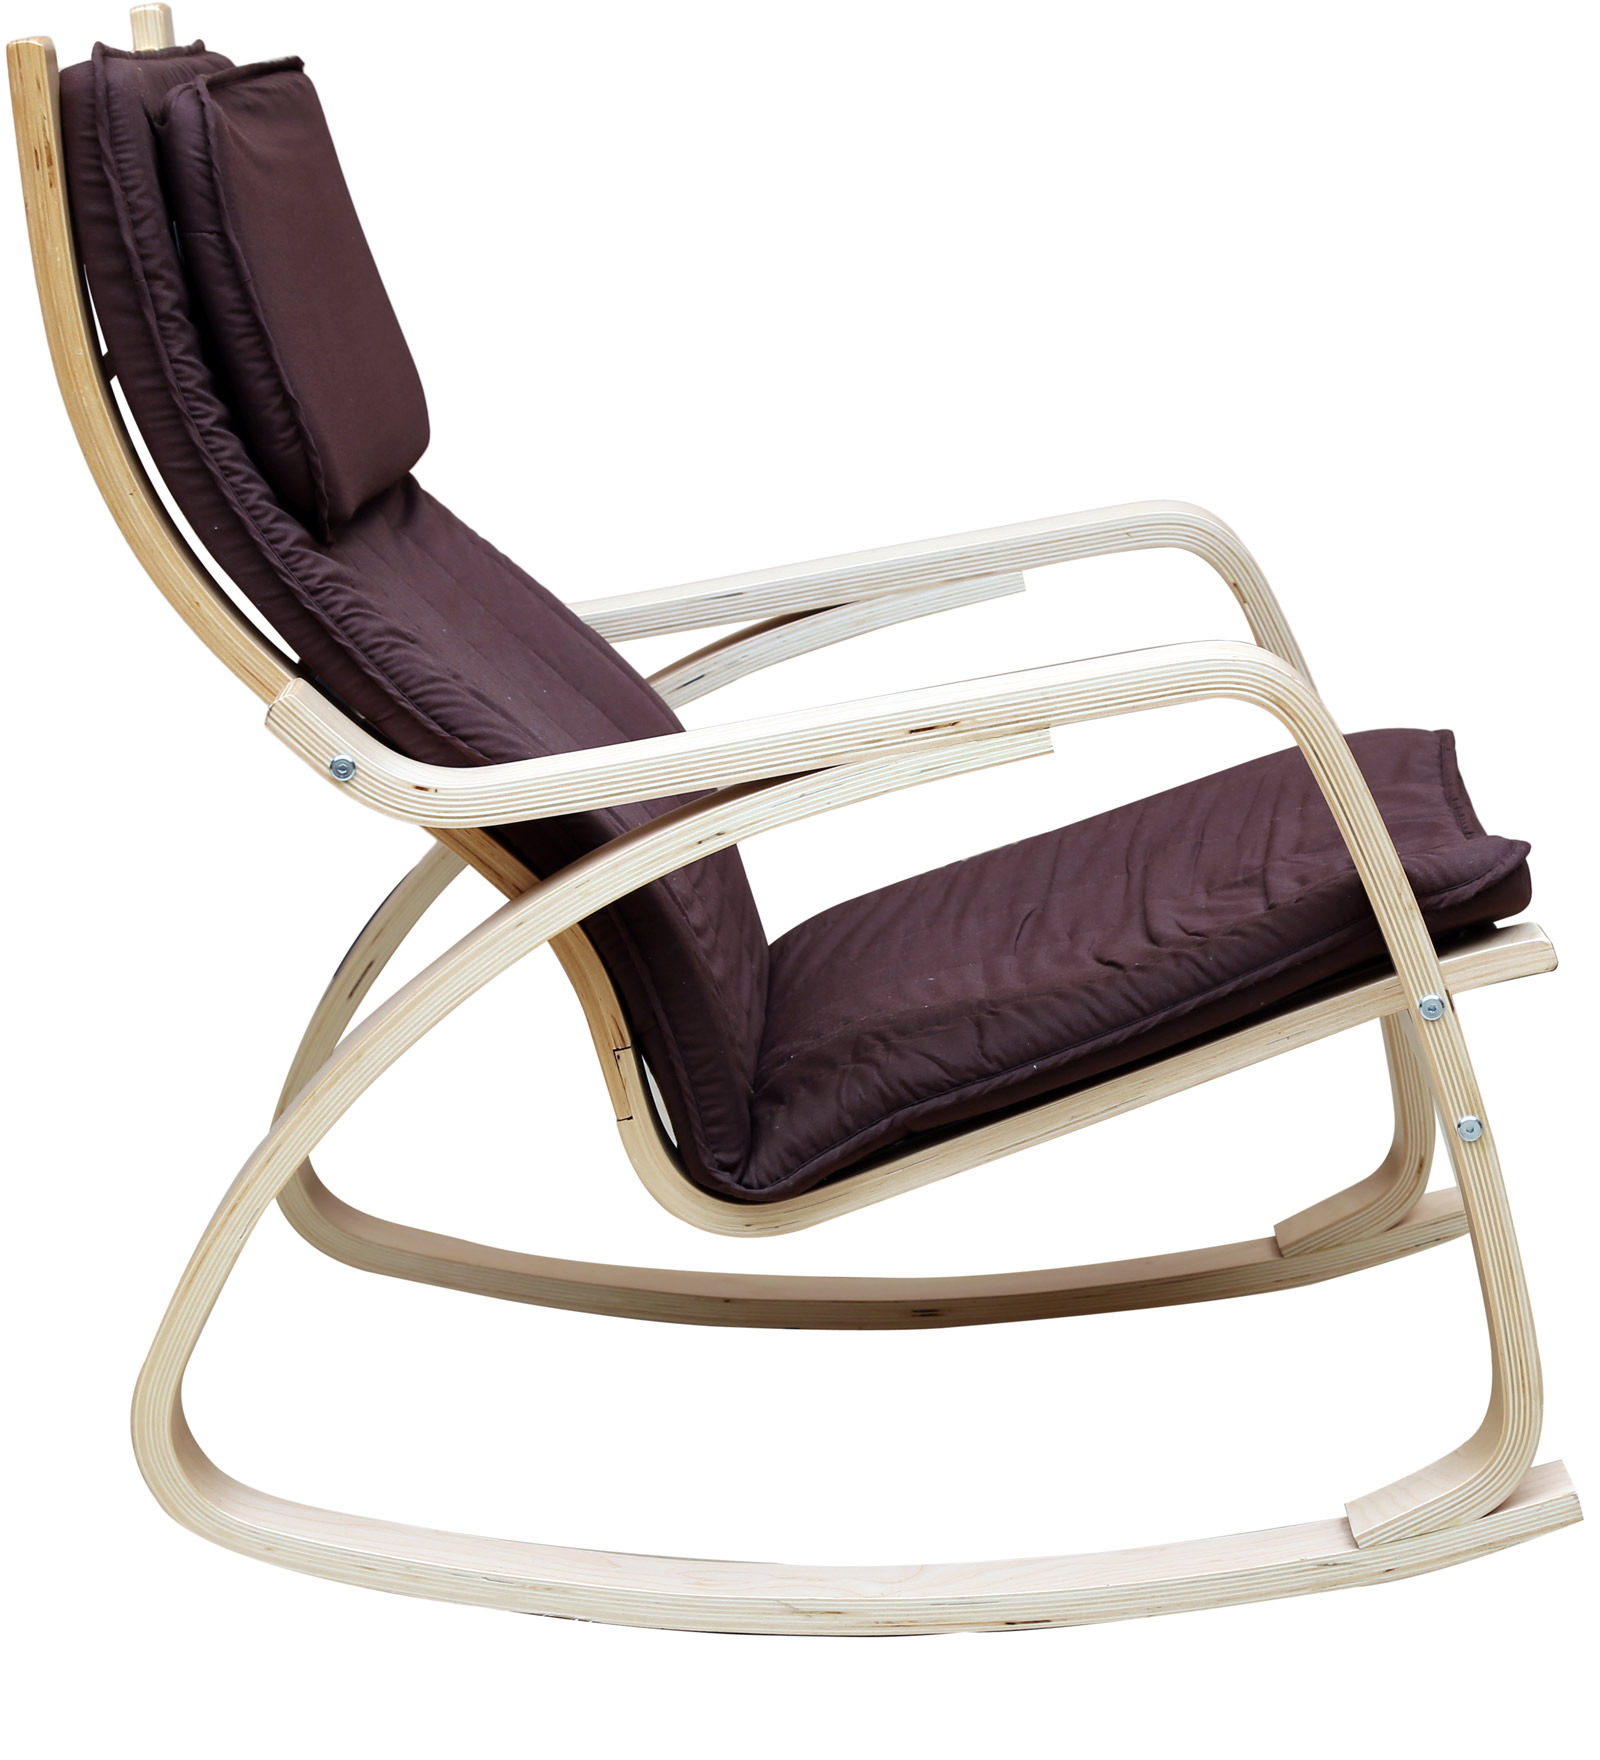Vita Rocking Chair with Brown Cushion by HomeTown: (2, 18, 1569, 1613)
